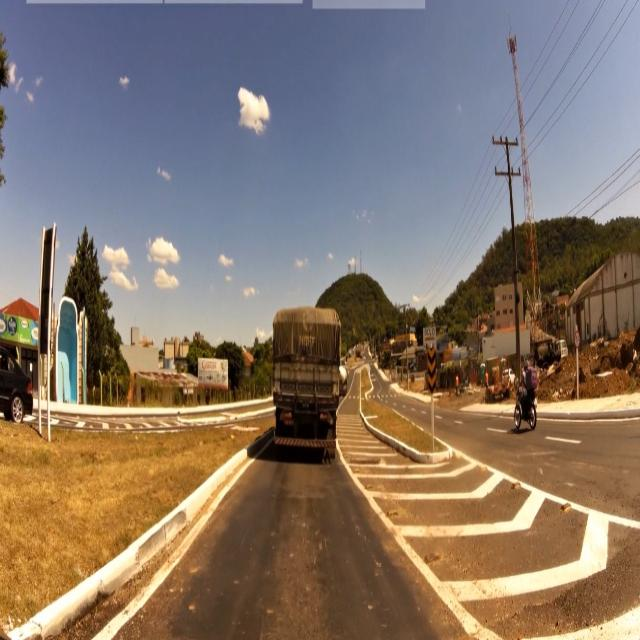MP: (427, 348, 437, 400)
